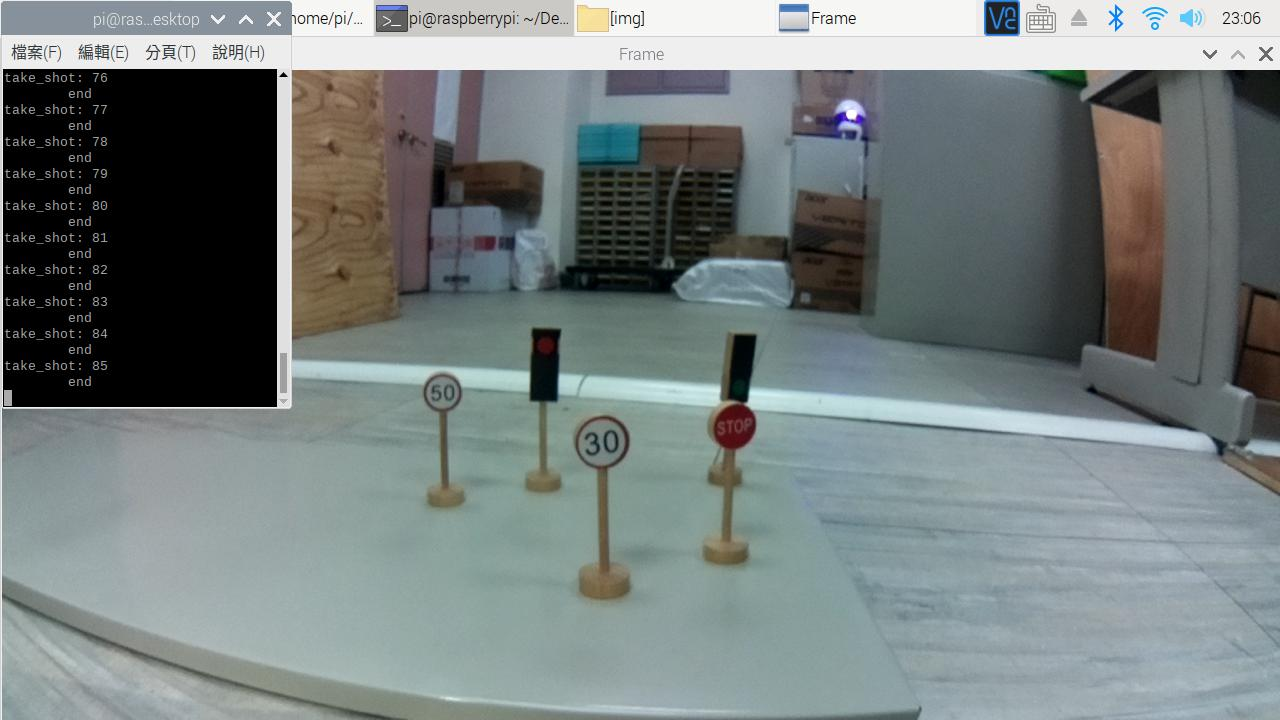Green: (717, 326, 756, 406)
Red: (527, 320, 564, 407)
Speed30: (572, 411, 629, 482)
Speed50: (418, 365, 466, 424)
Stop: (707, 399, 763, 454)
